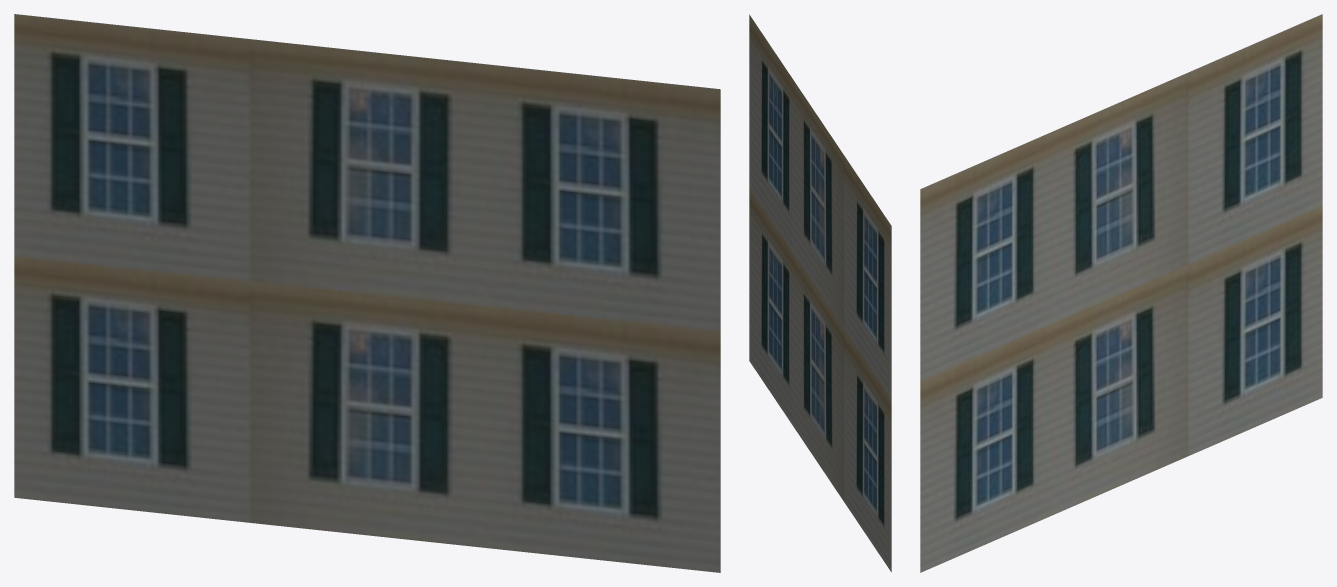
Rendered from ResTex__2968.fbx.
The picture shows the model from 3 angles, left to right: view 1: azimuth 30°, elevation 25°; view 2: azimuth 150°, elevation 25°; view 3: azimuth 270°, elevation 25°; orthographic projection. The views are drawn at different scales.
Visible parts, largest first — view 1: CityEngineMaterial_7_m; view 2: CityEngineMaterial_7_m; view 3: CityEngineMaterial_7_m.
Boxes of the visible parts, bbox=[...] form: CityEngineMaterial_7_m: bbox=[14, 14, 720, 572]; CityEngineMaterial_7_m: bbox=[749, 14, 891, 572]; CityEngineMaterial_7_m: bbox=[920, 14, 1322, 572].
Size of the model in its own units: 5.88 by 6 by 5.7.
1 material, 1 textured.
